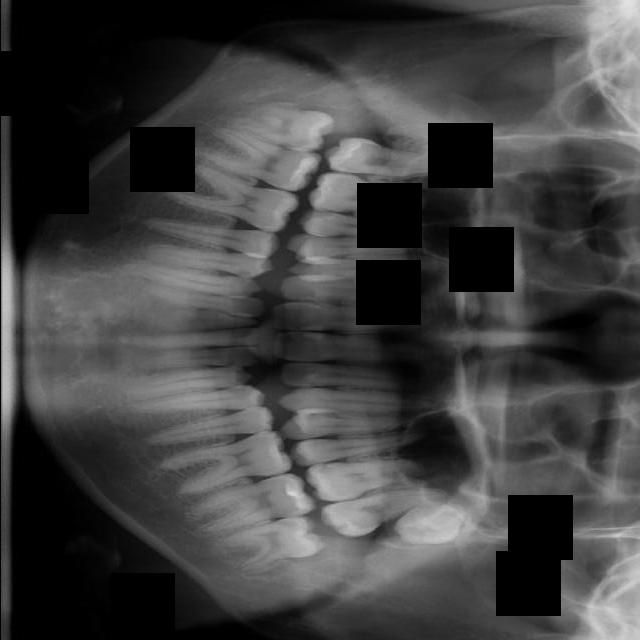73: (17, 624, 25, 635)
BioHorizons Implant: (317, 481, 450, 545)
BioLife Implant: (394, 506, 465, 545)
Biomet 3i Implant: (212, 509, 324, 581)
Blue Sky Bio Implant: (188, 468, 315, 539)
Caries: (322, 134, 451, 190)
Implant: (195, 122, 322, 197)
Keystone Dental Implant: (228, 99, 333, 155)
